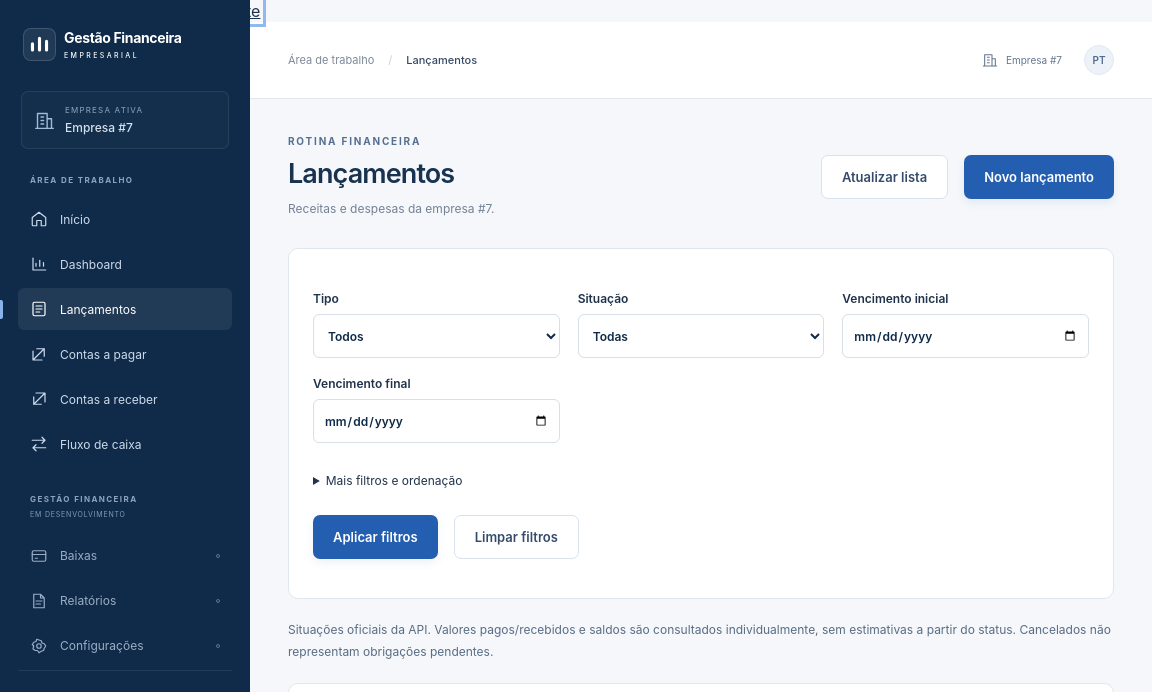
Scenario: Telas operacionais protegidas › aplica filtros explicitamente e rejeita datas e referências inválidas
Earlier steps of the test are not shown.
Later steps or results of the test are not shown.
Type "2026-12-31" into the date field labelled "Vencimento inicial" at (966, 336), box [842, 314, 1089, 358]
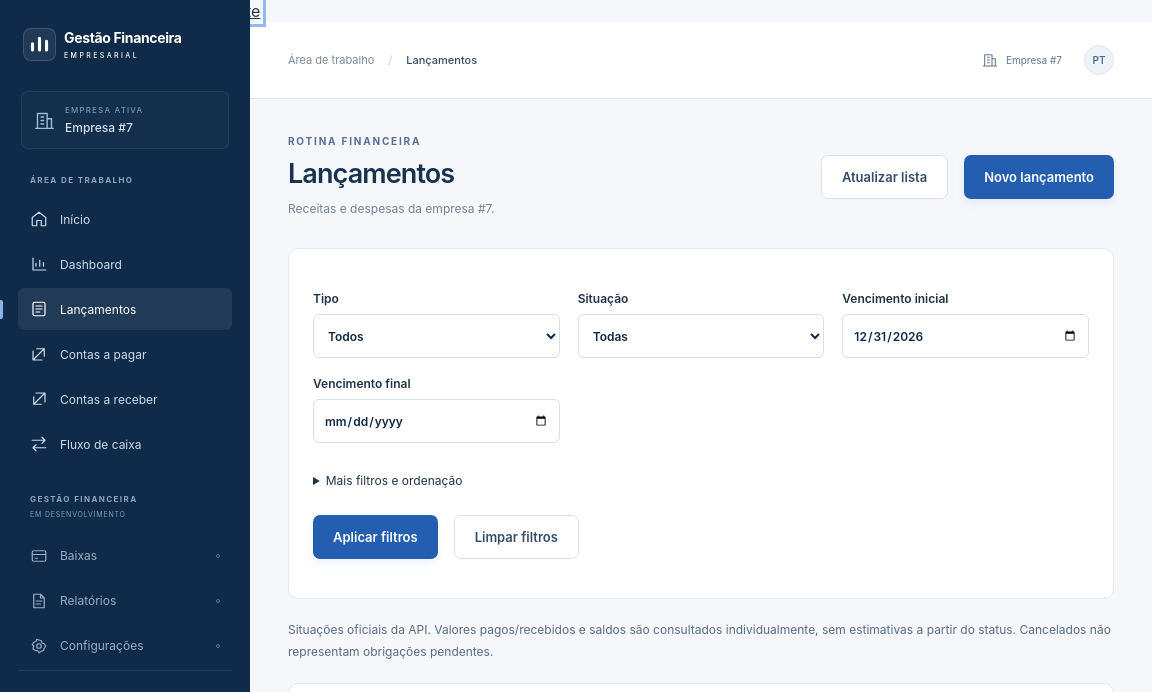
Type "2026-01-01" into the date field labelled "Vencimento final" at (436, 421), box [313, 399, 560, 443]
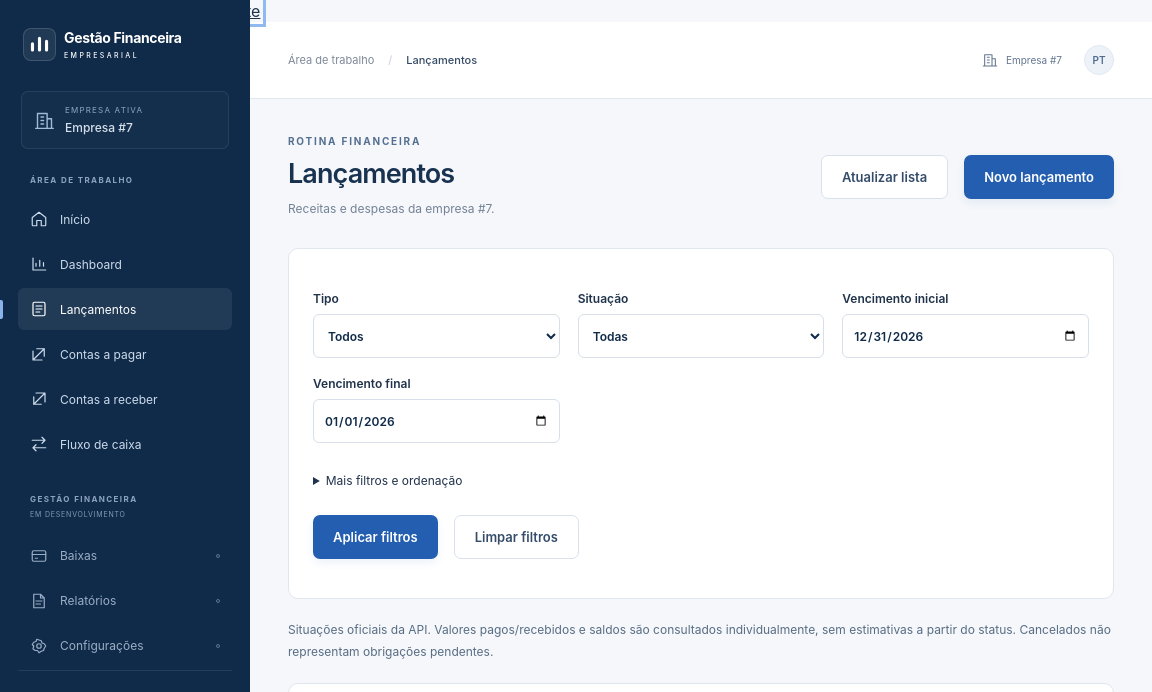
Click the button "Aplicar filtros" at (375, 537), box [313, 515, 438, 559]
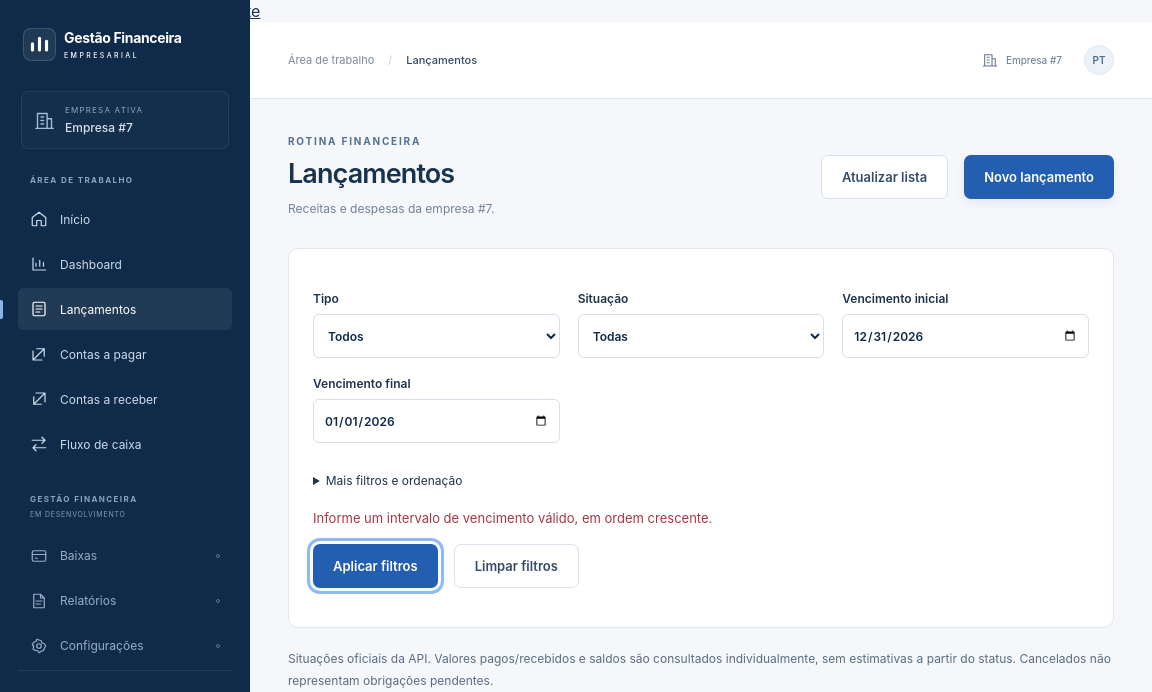
Check: the message shows "intervalo", box [313, 510, 712, 526]
